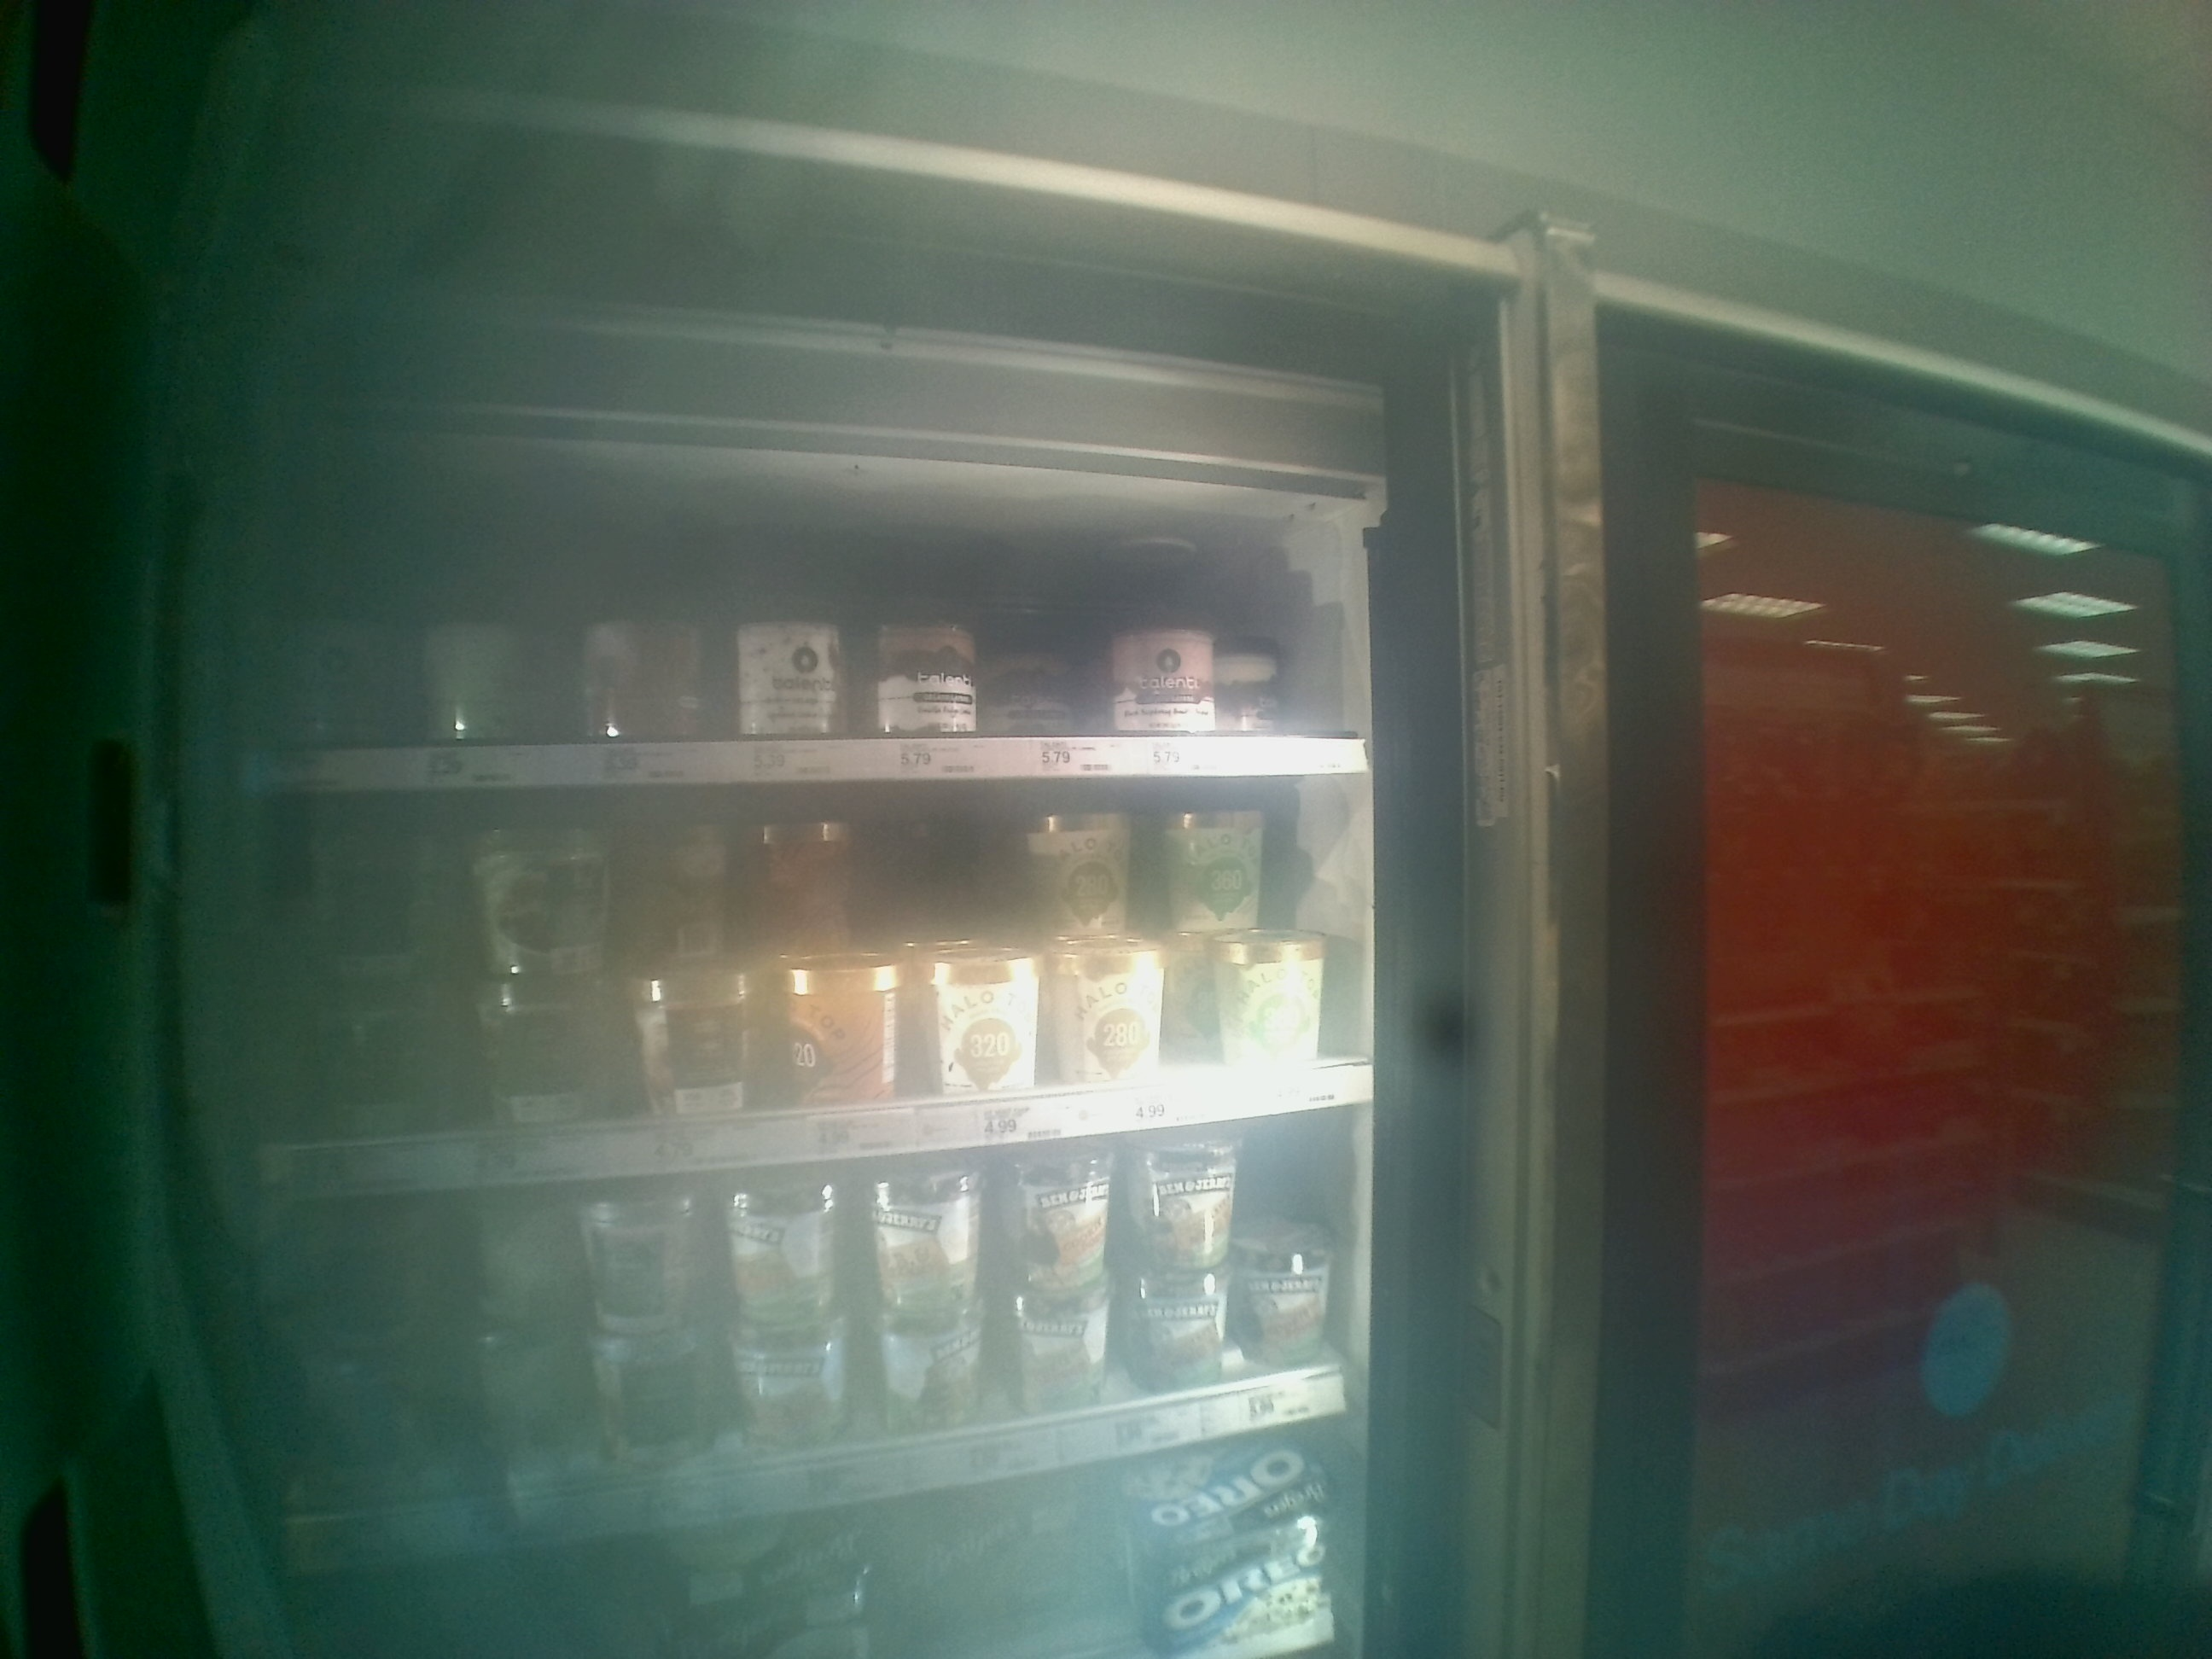shelf: (256, 1098, 1371, 1579), (235, 769, 1371, 1202), (239, 472, 1362, 788)
